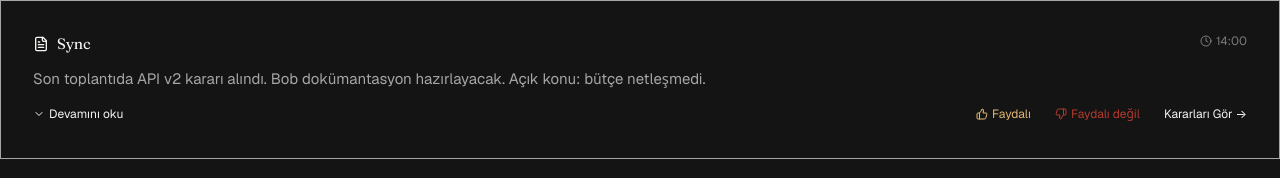
it: BriefCard › expands on click and shows full content
The width and height of the screenshot is (1280, 178).
Click the button "Devamını oku".
click(78, 114)  # box left=33, top=106, right=123, bottom=122
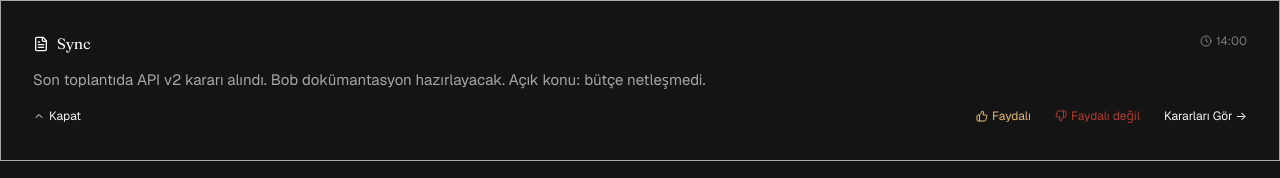
Result: the button "Kapat" is shown at left=33, top=108, right=81, bottom=124
